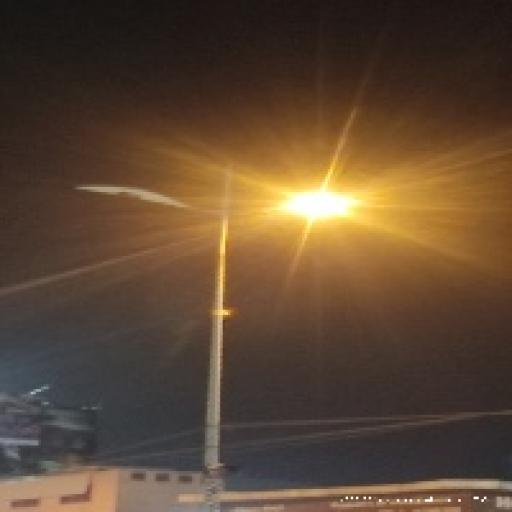Not Working: (76, 179, 186, 217)
Working: (266, 175, 374, 247)
